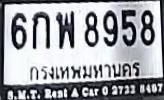5: (121, 9, 136, 46)
6: (10, 12, 26, 49)
8: (83, 10, 98, 46), (140, 9, 154, 45)
9: (102, 10, 117, 46)
A01: (31, 10, 49, 48)
A30: (55, 10, 74, 48)
BKK: (26, 61, 143, 83)
